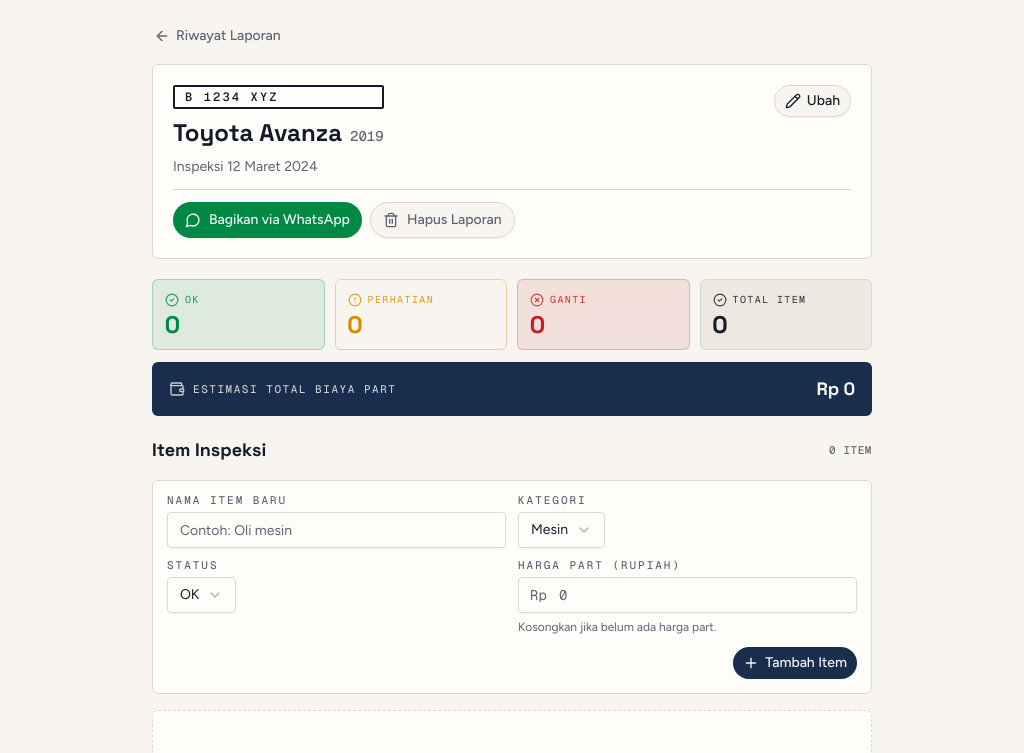
Test case: ReportDetailPage › requires a plate and vehicle name before saving the header
Click the button with test id "report.edit_button". click: (812, 101)
box: [774,85,851,117]
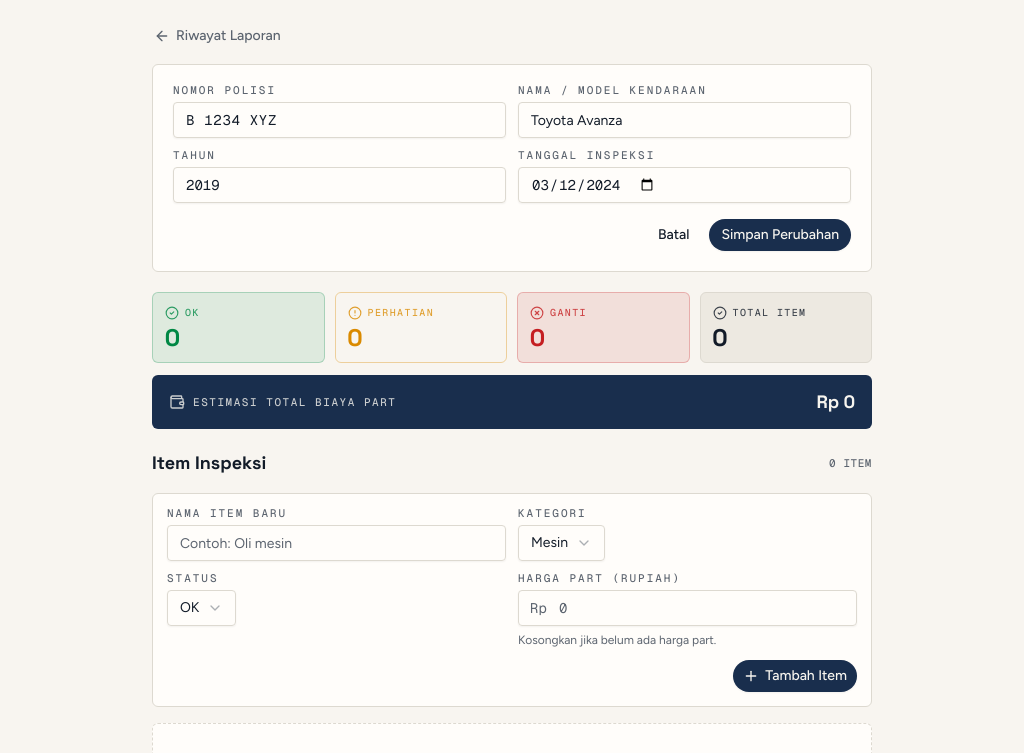
Clear the field with test id "report.edit_plate_input". click: (340, 120)
box: [173,102,506,138]
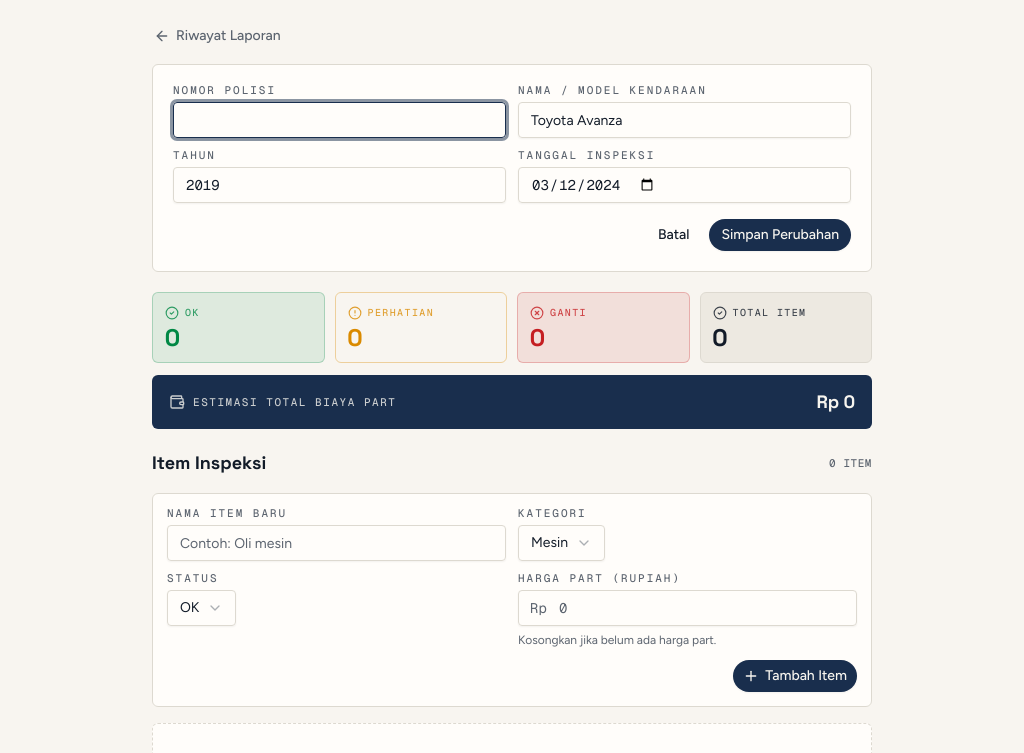
Click the button with test id "report.edit_save_button". click: (780, 235)
box: [709,219,851,251]
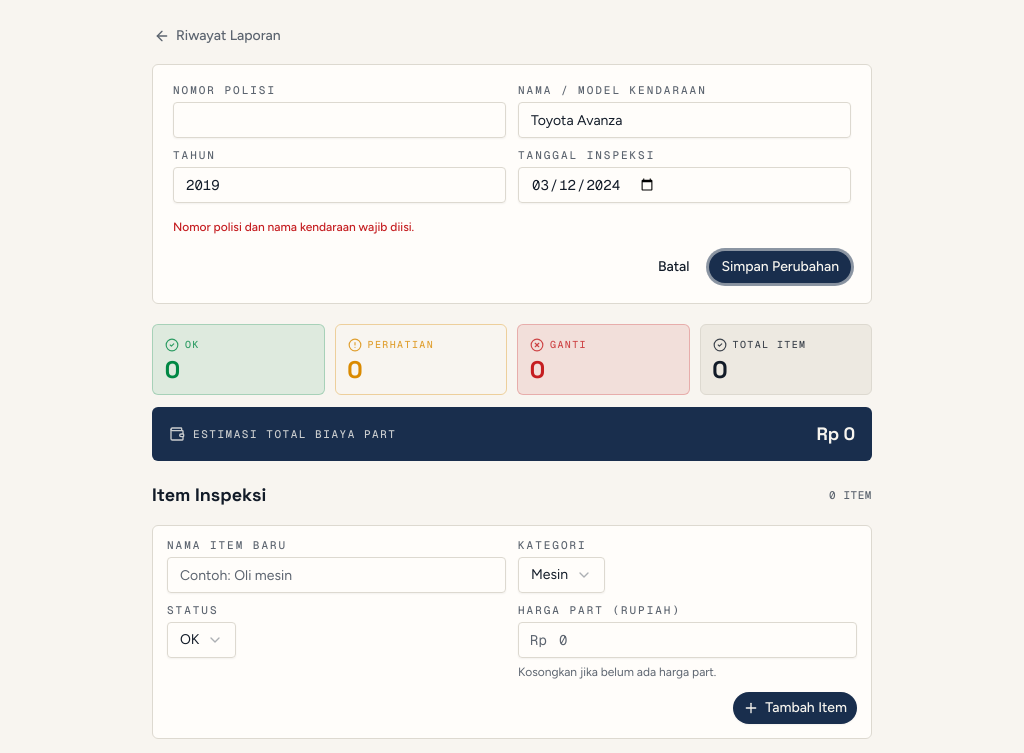
Expected: the text with test id "report.edit_header_error" reads "Nomor polisi dan nama kendaraan wajib diisi.", [173,220,414,234]
